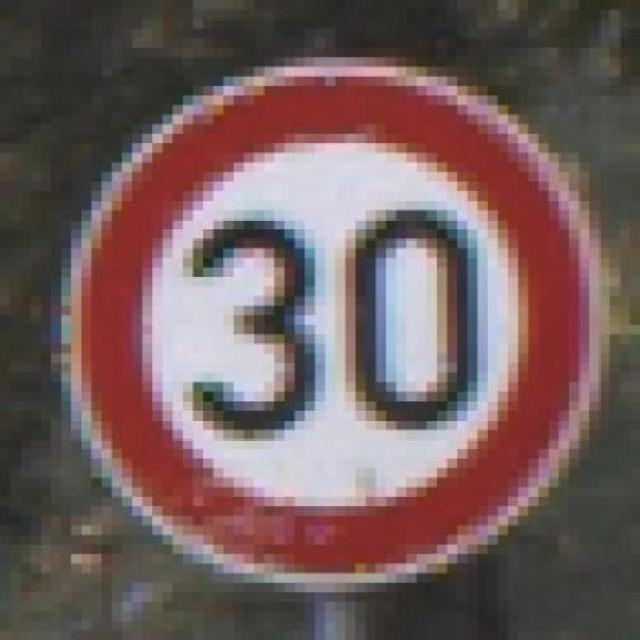Speed Limit 30 KMPh: (50, 48, 630, 602)
